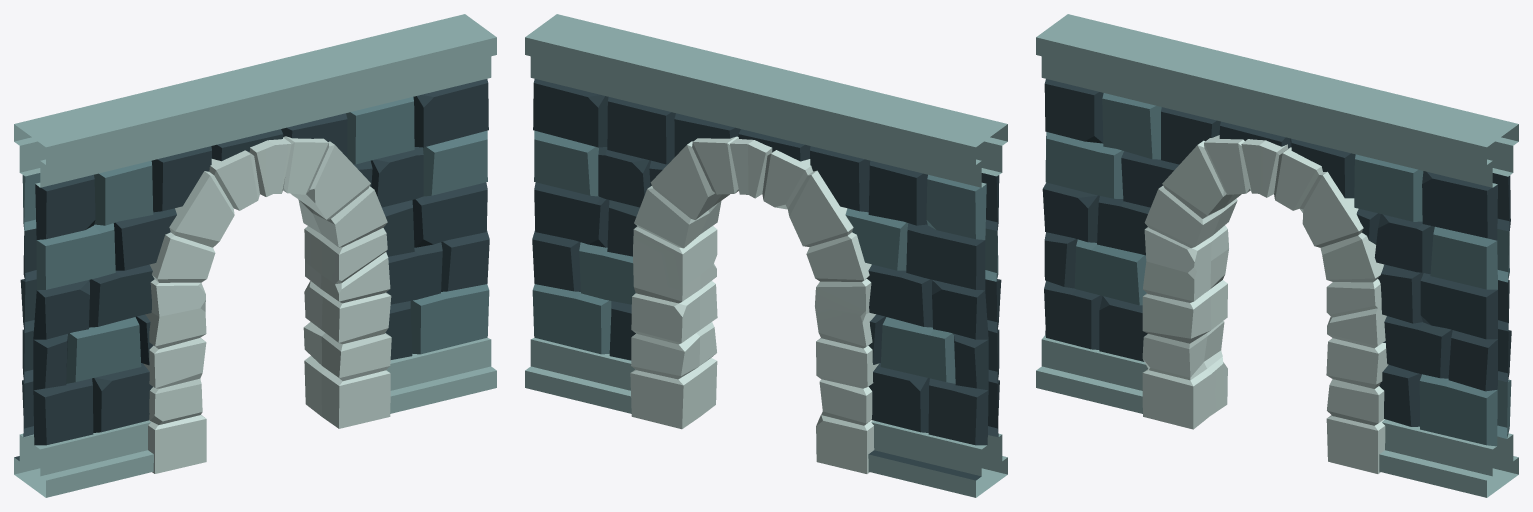
Rendered from entrance 1.glb.
3 views of the same model, side by side, from view 1: azimuth 30°, elevation 25°; view 2: azimuth 150°, elevation 25°; view 3: azimuth 330°, elevation 25° (orthographic).
Visible parts, largest first — view 1: entrance 1; view 2: entrance 1; view 3: entrance 1.
Part boxes in pixels (left/top/right/bottom): entrance 1: left=14, top=14, right=496, bottom=497; entrance 1: left=525, top=14, right=1007, bottom=497; entrance 1: left=1036, top=14, right=1518, bottom=497.
Bounding box in the file's own units: 4.01 × 2.99 × 0.5817.
1 material, 1 textured.
